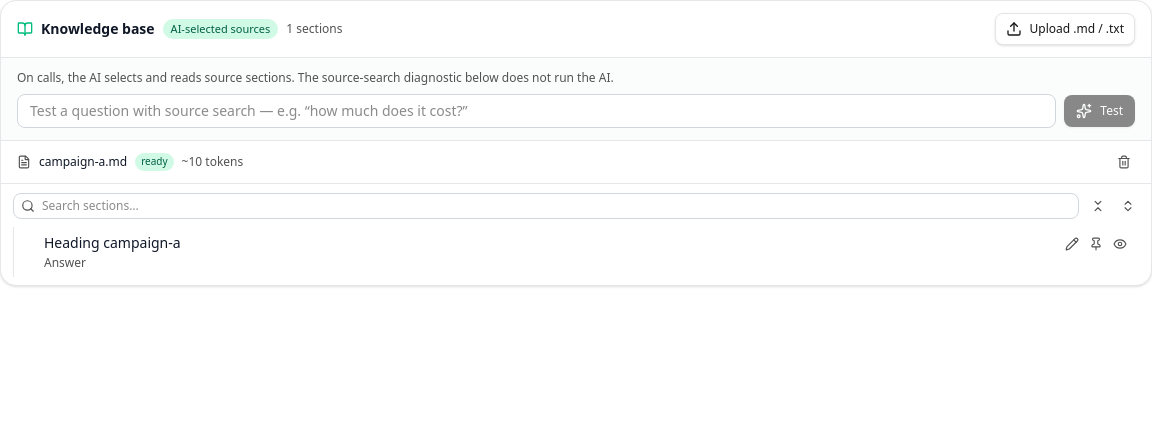
absent enrichment and provenance still show original source with explicit unavailable revision
Expected: the text "campaign-a.md" is shown, [39,154,127,170]
Replace the text in the field with placeholder "Test a question" with "Starter price": [537, 111] box [17,94,1056,128]
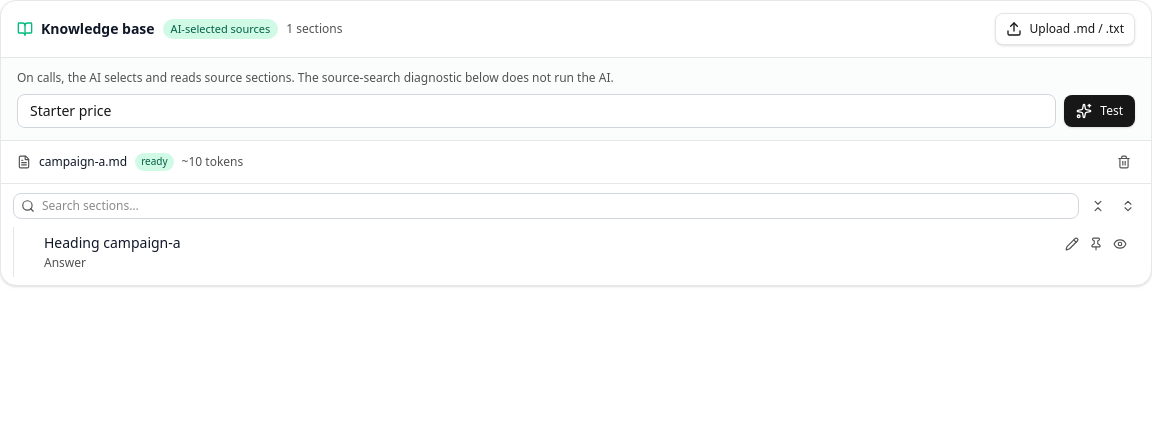
Click the button "Test": [1100, 111] box [1064,95,1135,127]
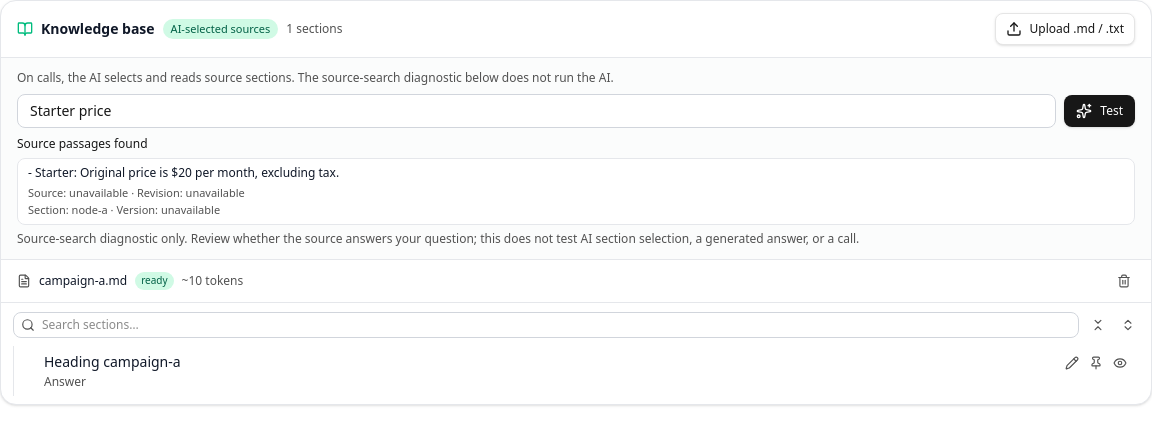
Result: the text "- Starter: Original price is $20 per month, excluding tax." is shown at [28,164,339,181]
Result: the text "Version: unavailable" is shown at [28,185,245,216]
